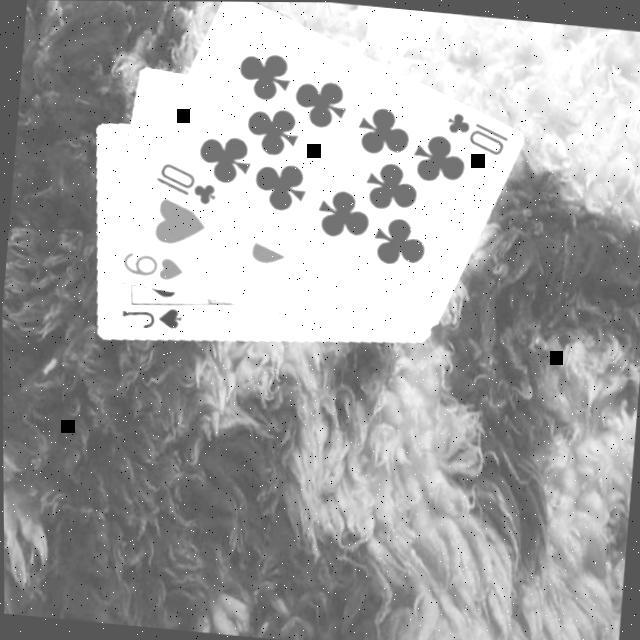10C: (438, 106, 512, 158), (148, 156, 220, 207)
6H: (114, 246, 184, 284)
JS: (115, 299, 184, 335)
